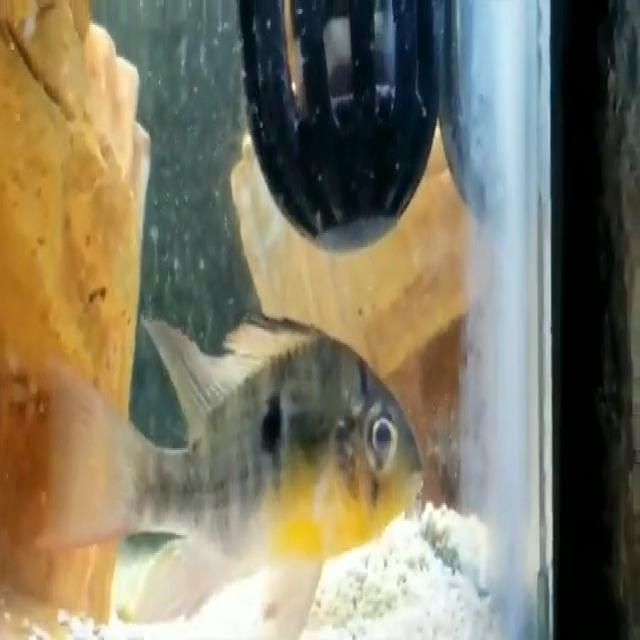fish: (48, 322, 429, 629)
